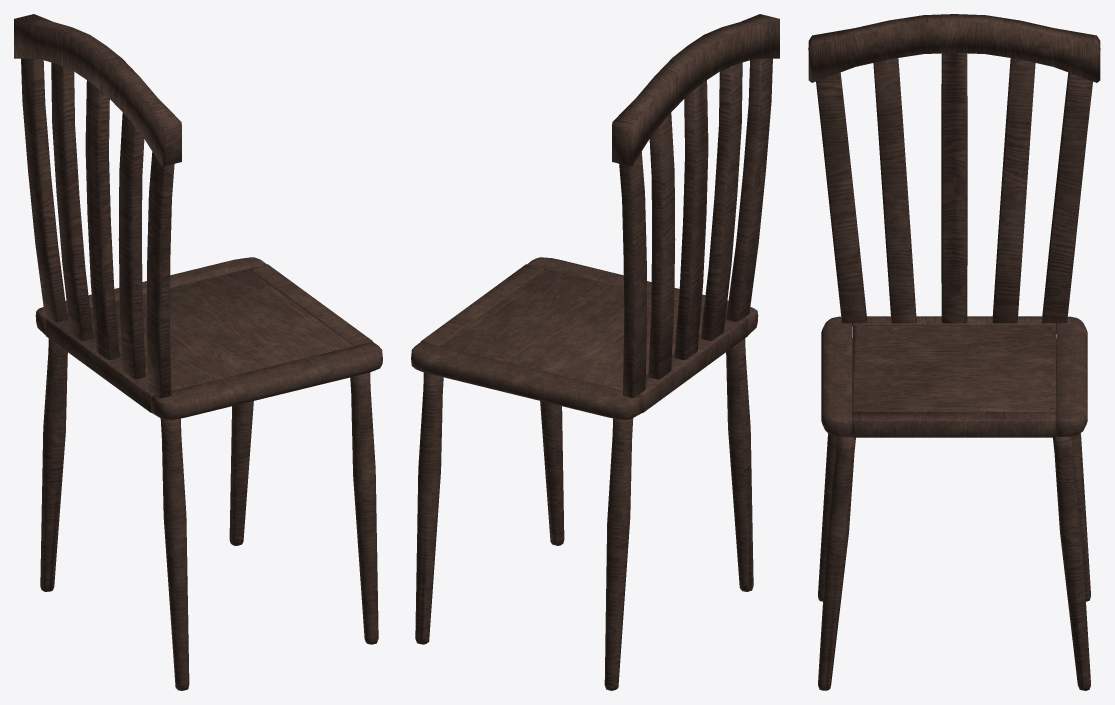
The model's file is Group Proj - Chair.fbx.
3 views of the same model, side by side, from view 1: azimuth 30°, elevation 25°; view 2: azimuth 150°, elevation 25°; view 3: azimuth 270°, elevation 25° (orthographic). The views are drawn at different scales.
Parts seen in each view (by area): view 1: Cube; view 2: Cube; view 3: Cube.
Part boxes in pixels (x1,y1,x2,y2): Cube: (14,14,382,690); Cube: (411,14,779,690); Cube: (808,14,1100,690).
Bounding box in the file's own units: 253 × 618 × 285.
1 material, 1 textured.
